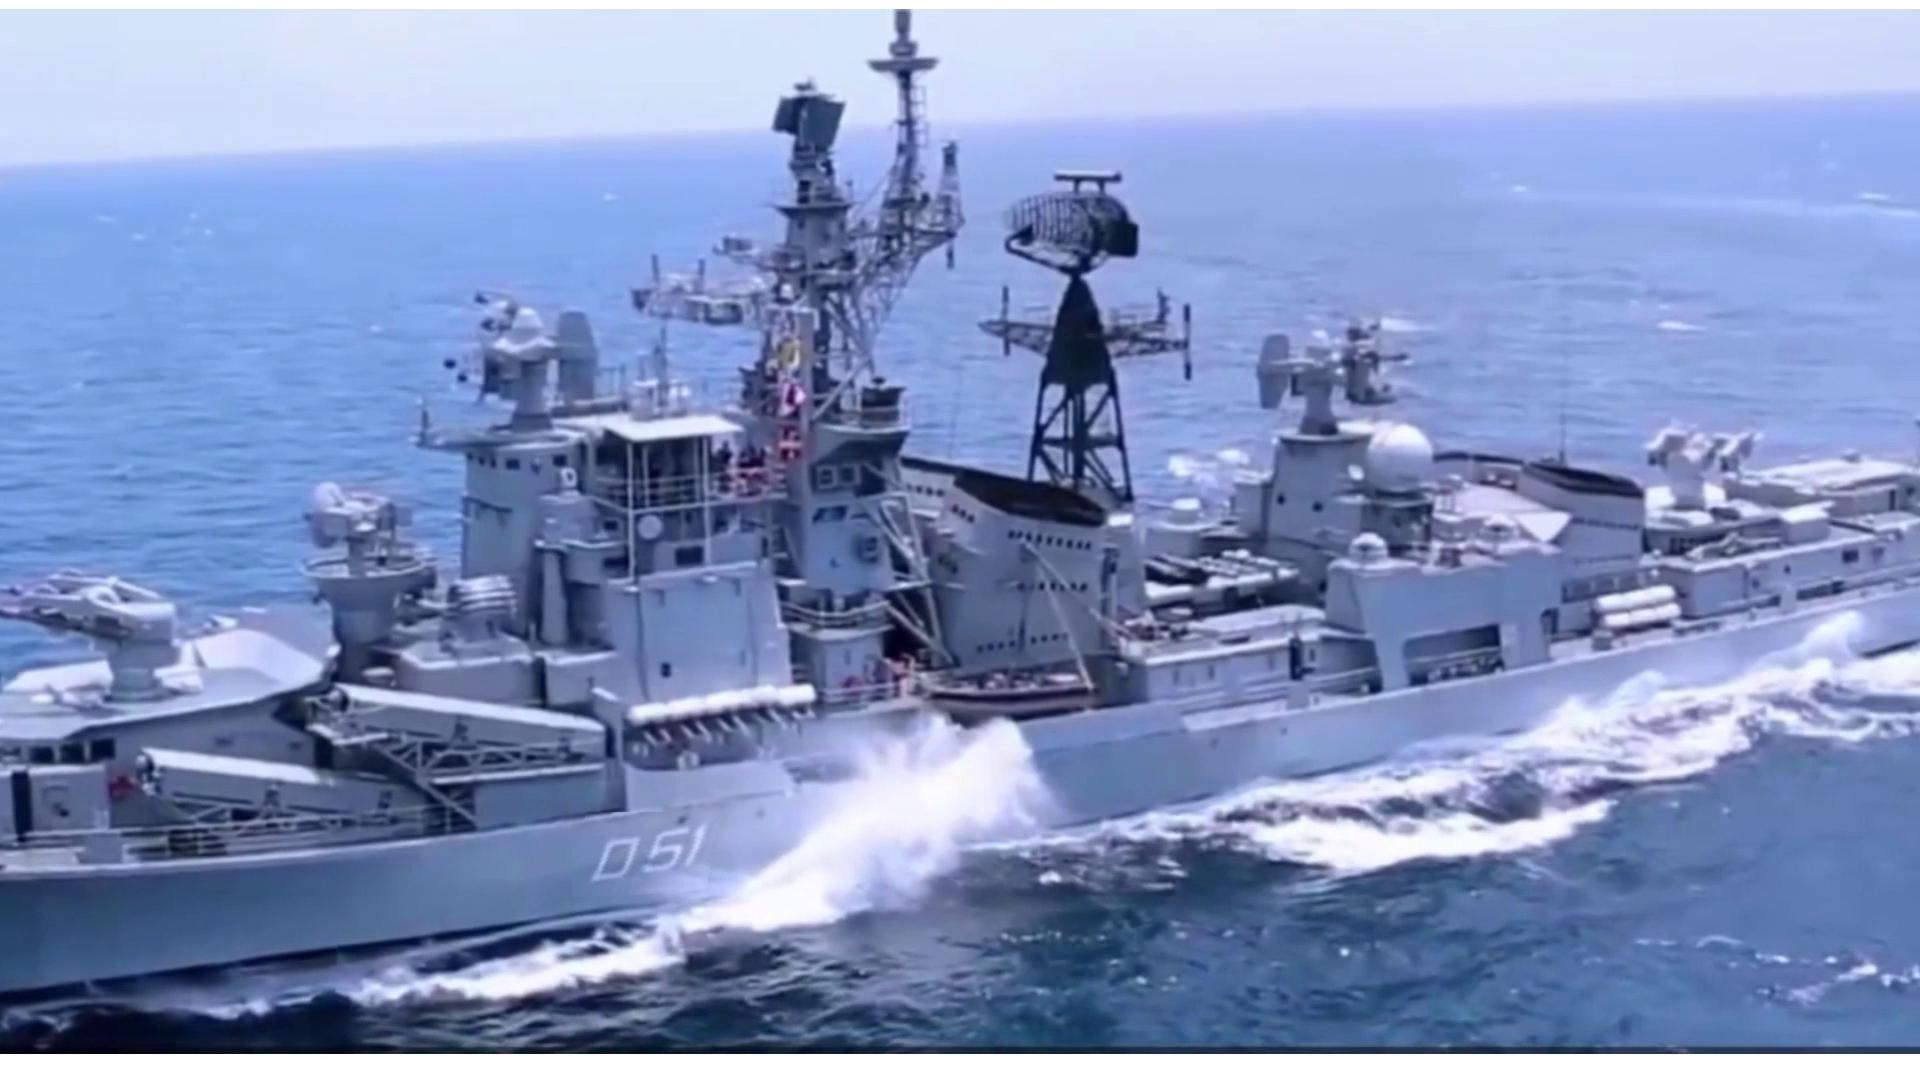OCR: (572, 812, 723, 898)
